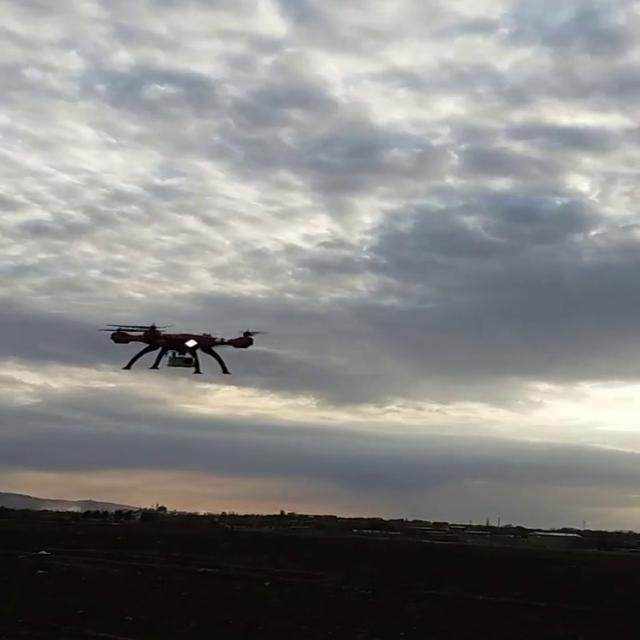drone: (87, 322, 276, 374)
